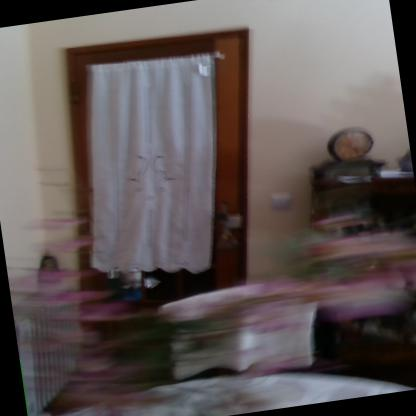closed: (44, 12, 300, 408)
